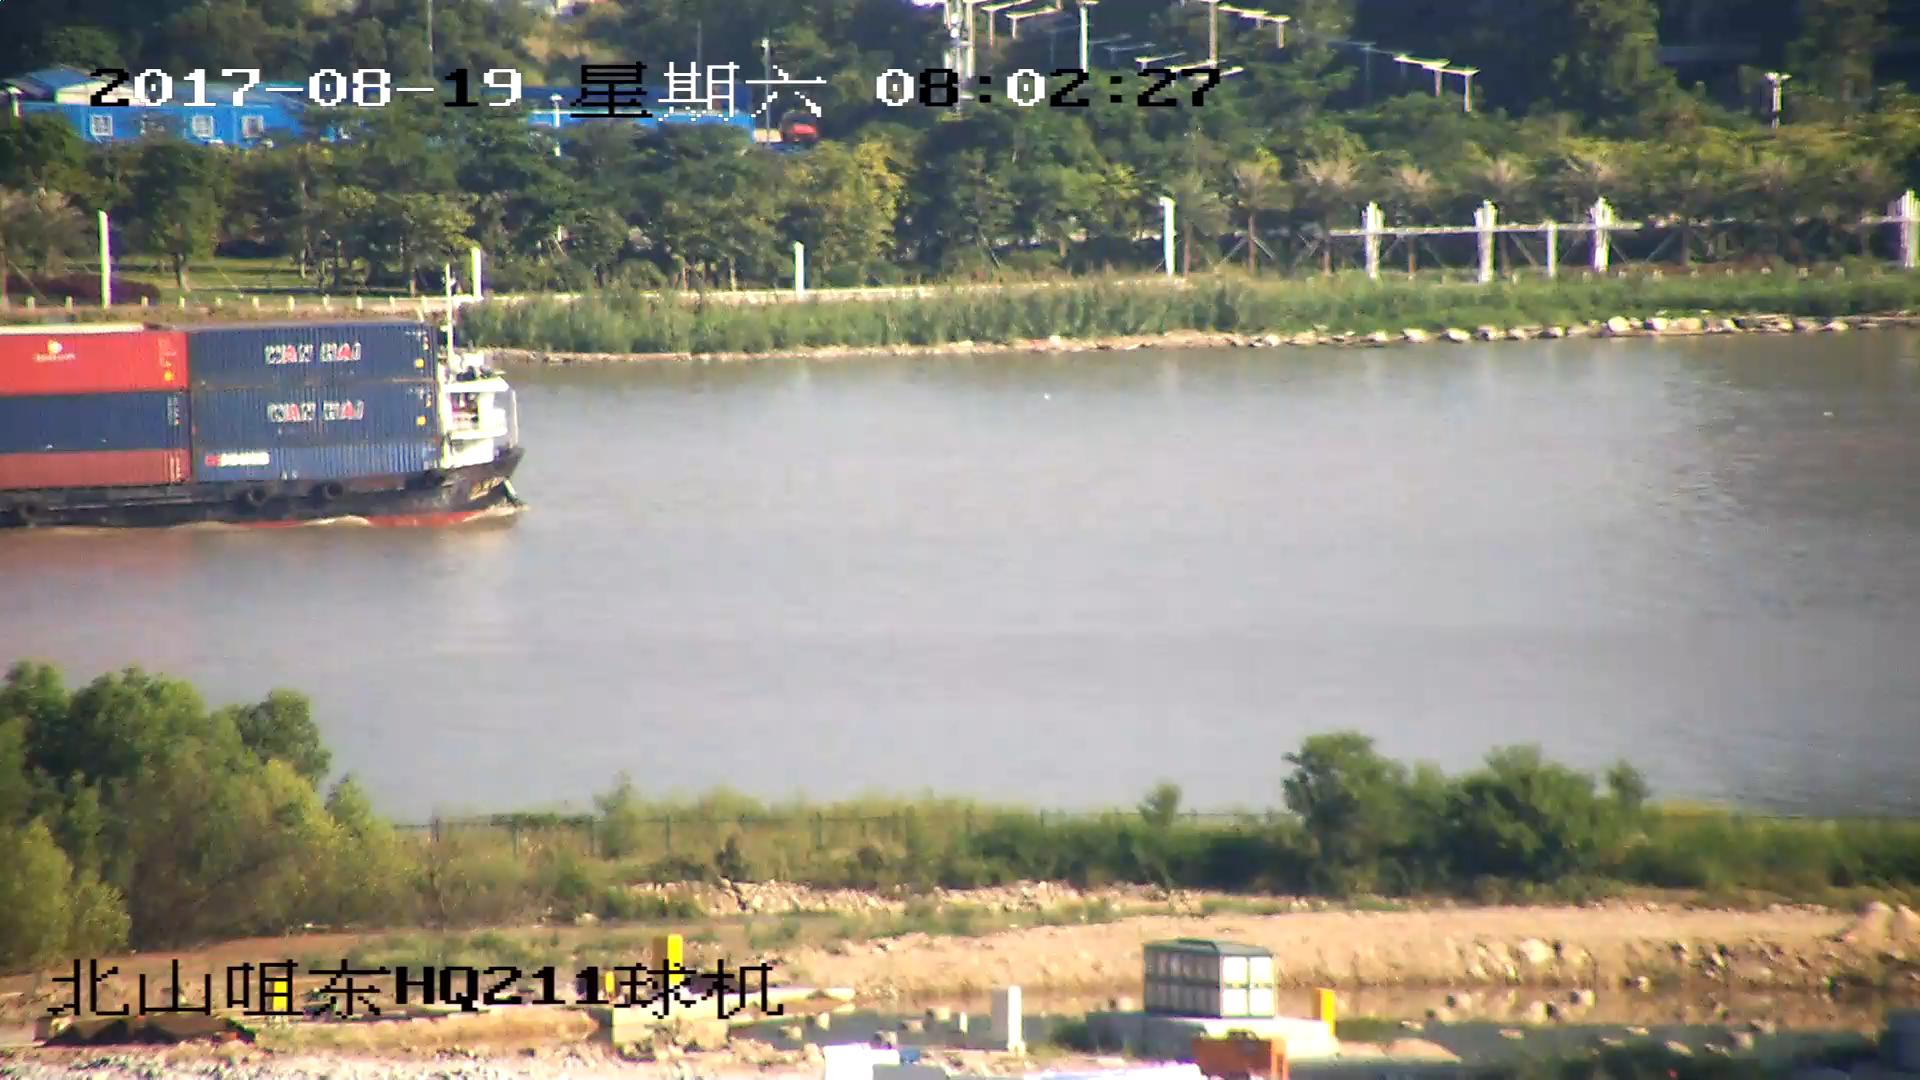container ship: (1, 269, 529, 531)
